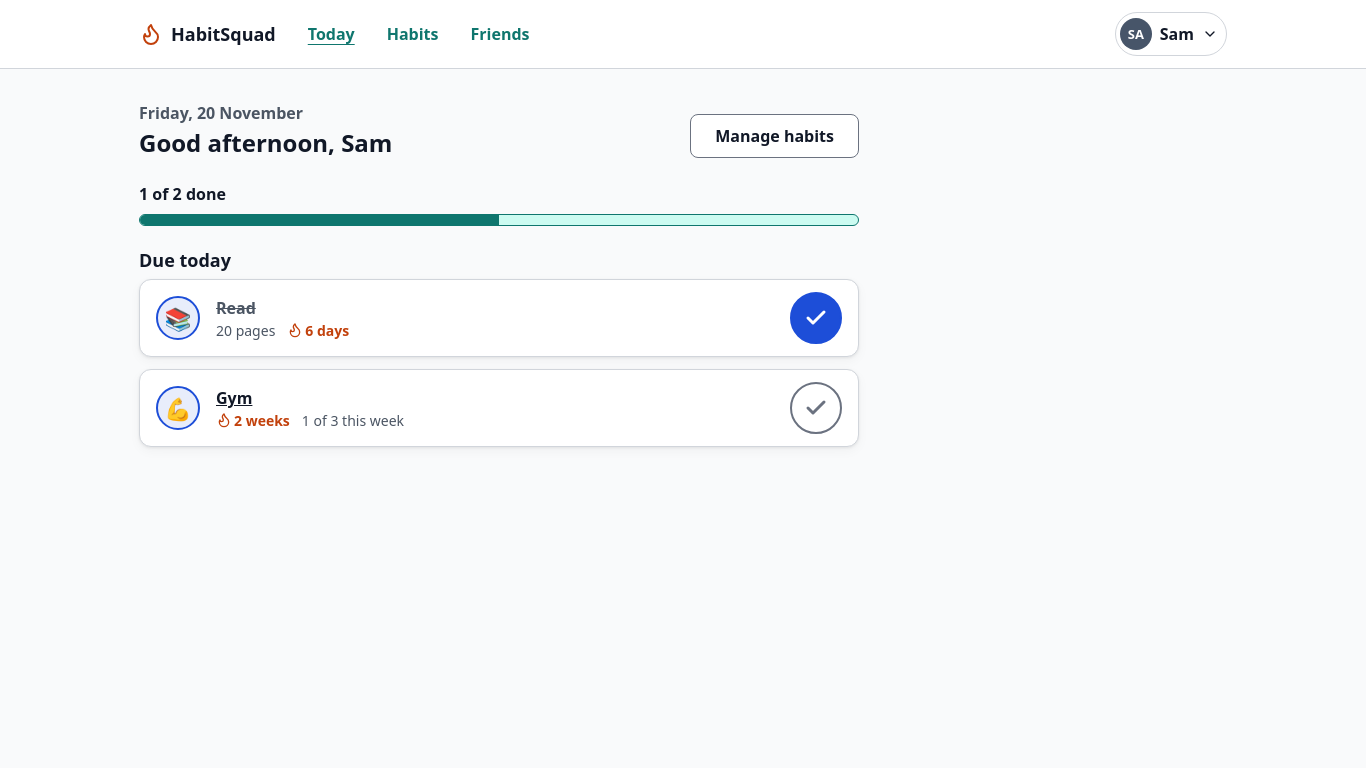
Scenario: TodayPage › tapping a done habit undoes it
Check: the heading "Due today" is shown, box 139,248 -> 231,272
Click the button named "Mark Read as done".
click(816, 318)  # box 790,292 -> 842,344
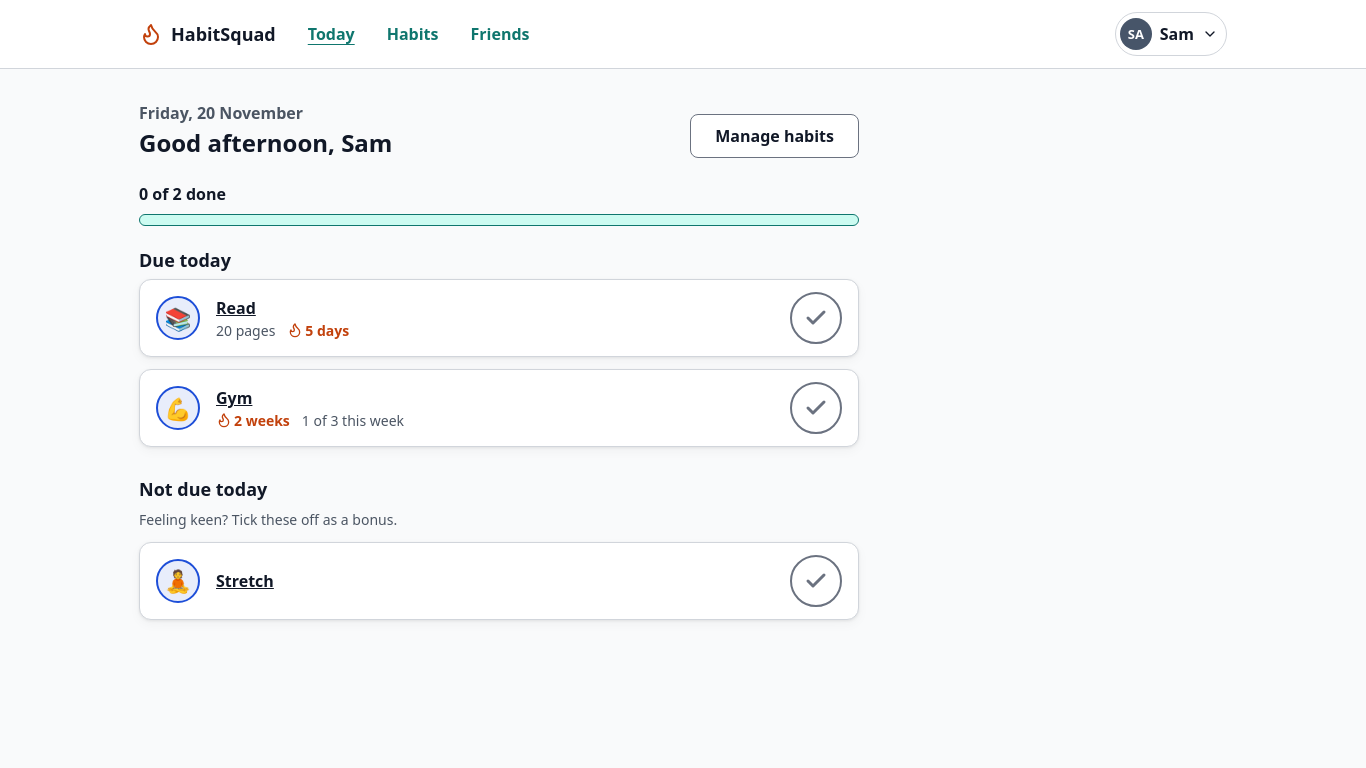
Check: the message reads "0 of 2 done", box 139,183 -> 226,205
